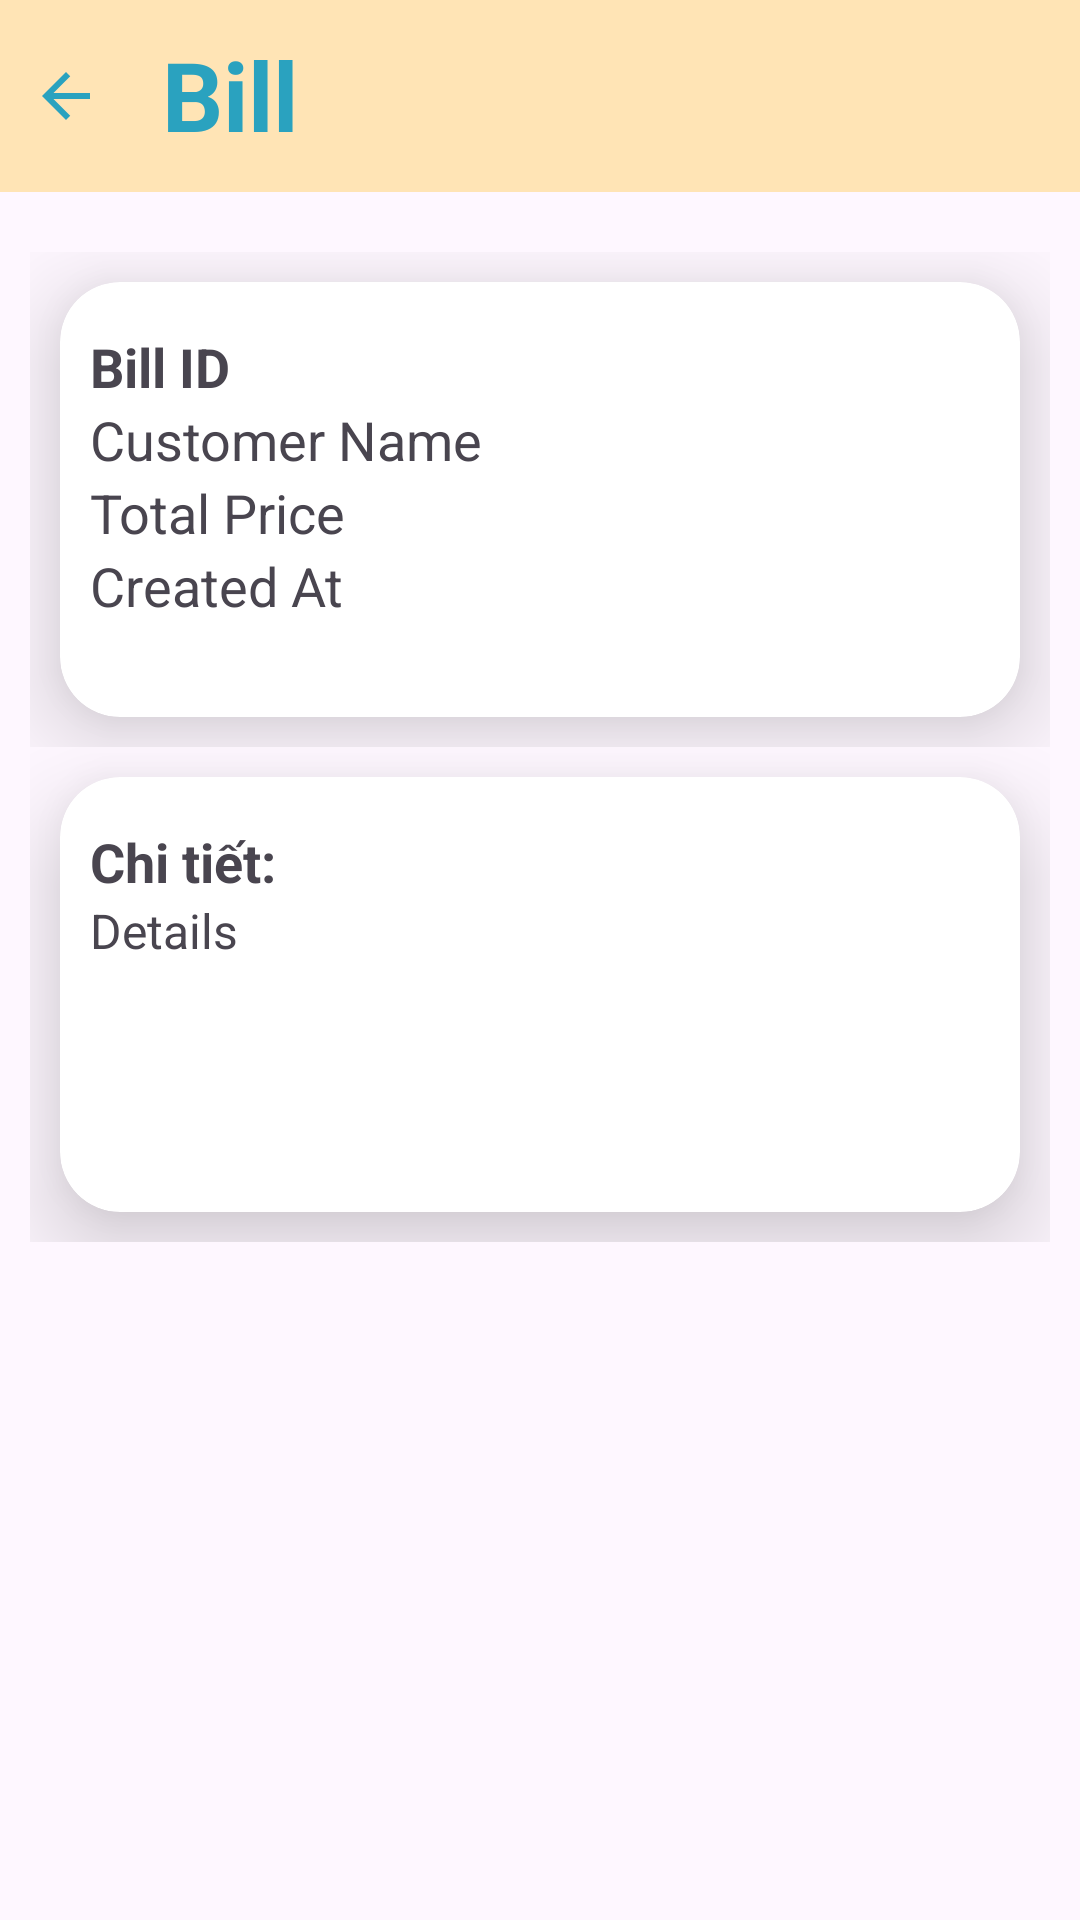

Named icons in this screenshot (1080x1920) and their bounding boxes, box=[x1, y1, x2, y2]:
Go back: box=[42, 72, 90, 120]
